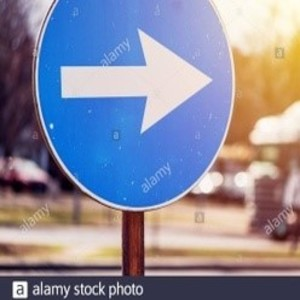trun_right: (35, 1, 237, 212)
